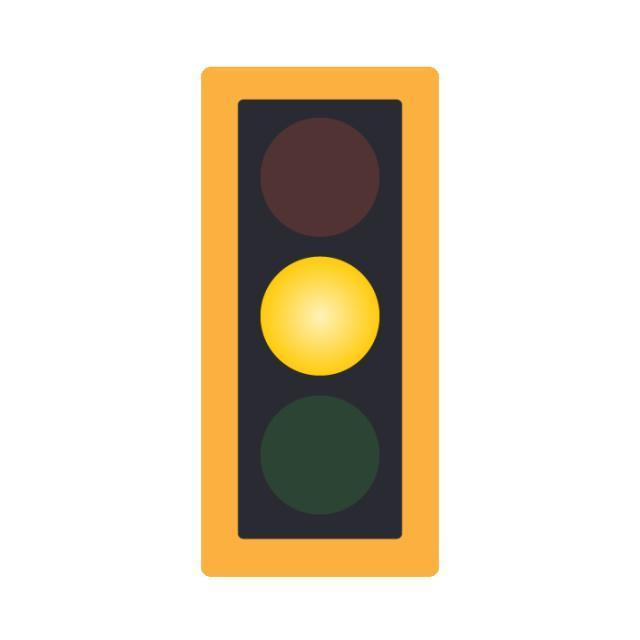yellow_light: (201, 67, 437, 574)
